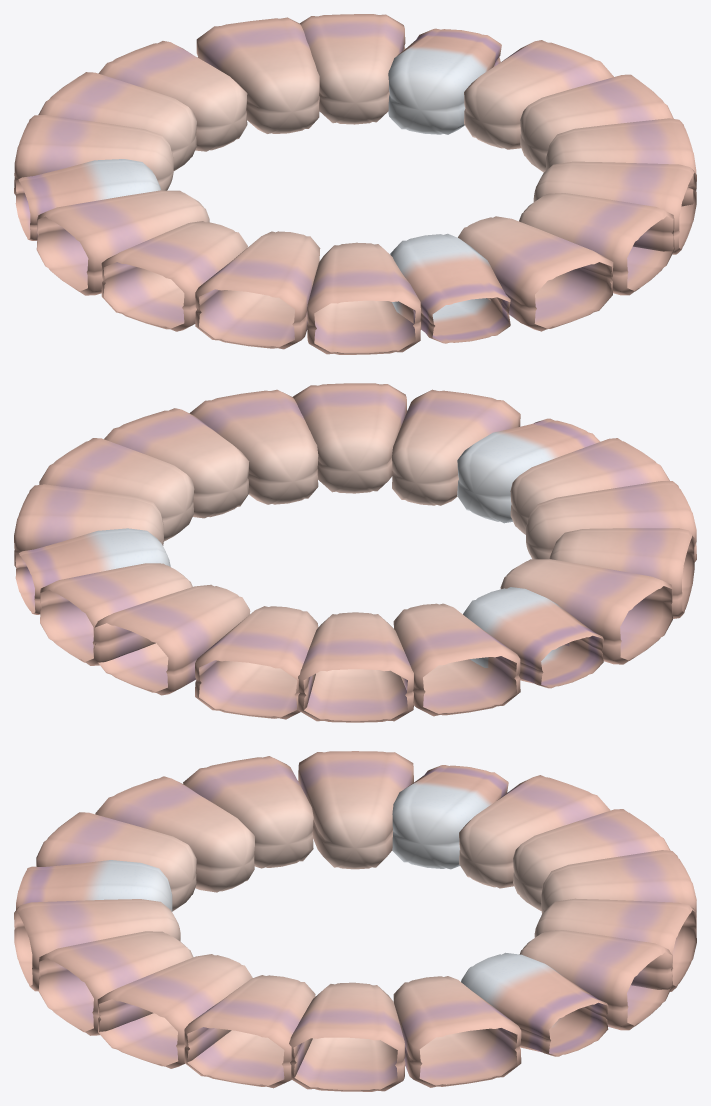
The model's file is Crypt_CellRing.fbx.
3 renders of one model, top to bottom at view 1: azimuth 30°, elevation 25°; view 2: azimuth 150°, elevation 25°; view 3: azimuth 270°, elevation 25°, orthographic.
Visible parts, largest first — view 1: Crypt_CellRing; view 2: Crypt_CellRing; view 3: Crypt_CellRing.
Part boxes in pixels (x1,y1,x2,y2): Crypt_CellRing: (14, 14, 696, 354); Crypt_CellRing: (14, 383, 696, 722); Crypt_CellRing: (14, 751, 696, 1091).
Bounding box in the file's own units: 6.43 × 0.6576 × 6.48.
